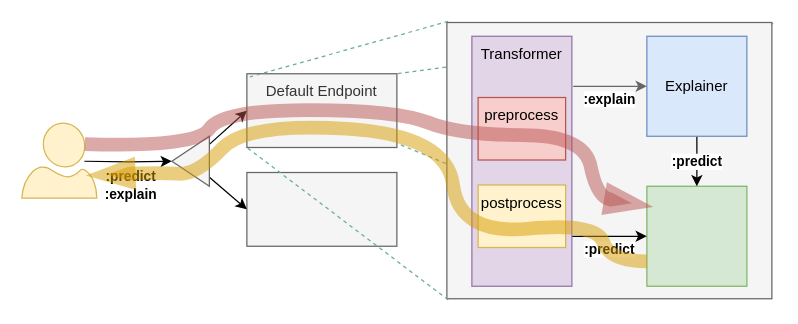
Some shapes in this 798 by 324 pixel diagram are drawn without their labels. The box of each missing label's shape, as (x1, y1, x2, y2) in pixels:
Canary Endpoint: (246, 171, 397, 246)
Predictor: (646, 185, 747, 286)
